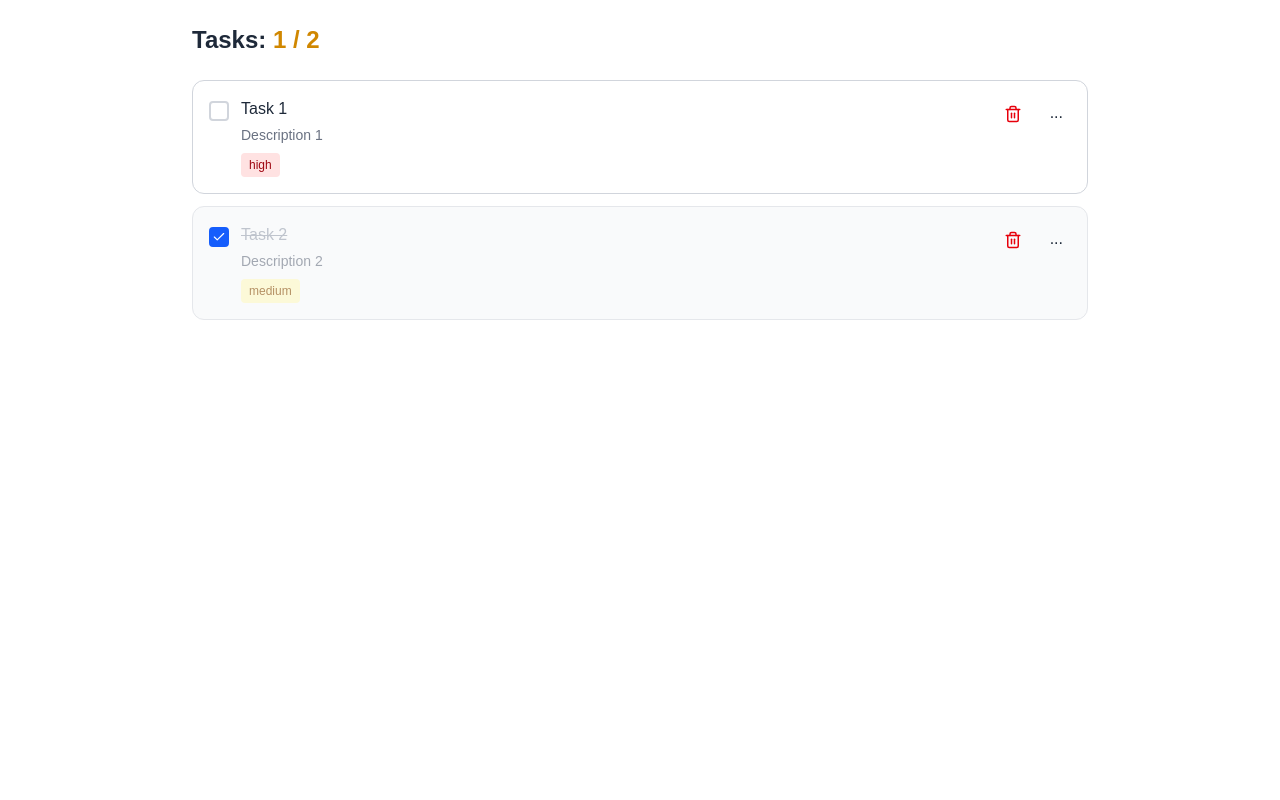
TasksSection › Task Update › should open edit modal when edit button is clicked
This screenshot has width=1280, height=800.
expect the heading "Task 1" is shown: met, box 241,100 -> 287,117
Click the button named "Edit task": (1056, 113) 1042,97 -> 1071,129
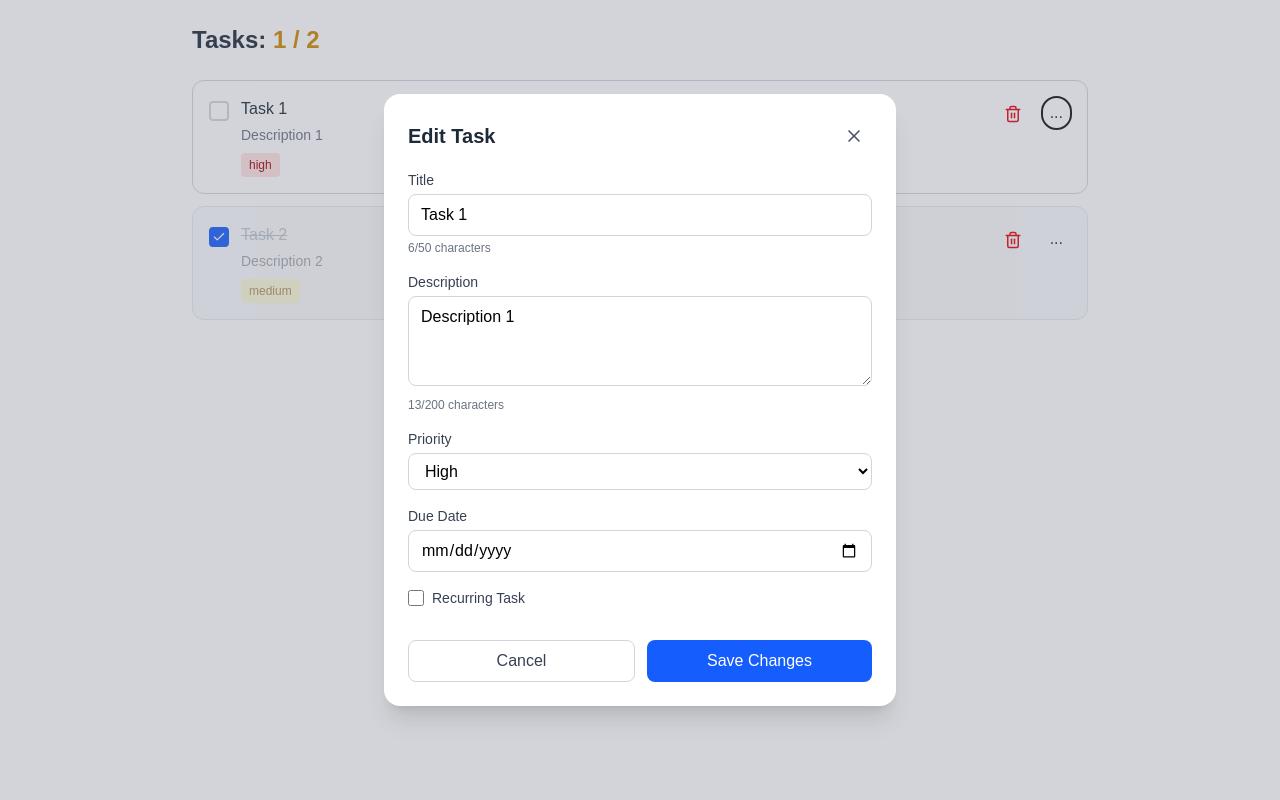
expect the heading "Edit Task" is shown: met, box 408,122 -> 495,150
